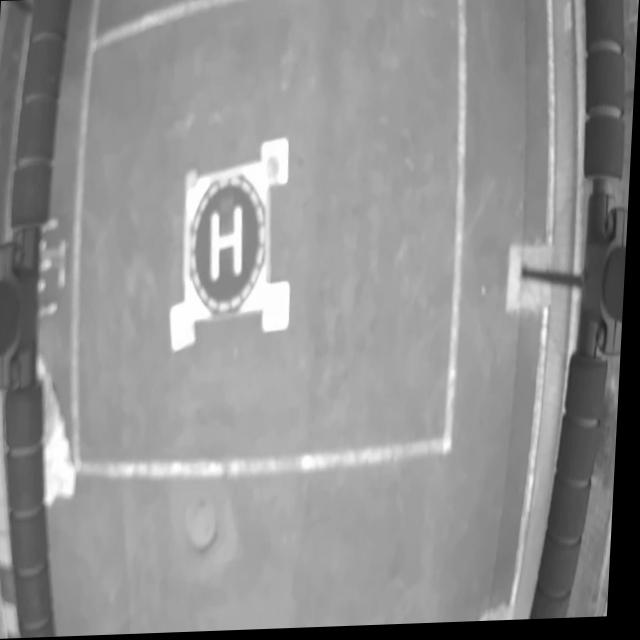Helipad: (212, 204, 245, 283)
